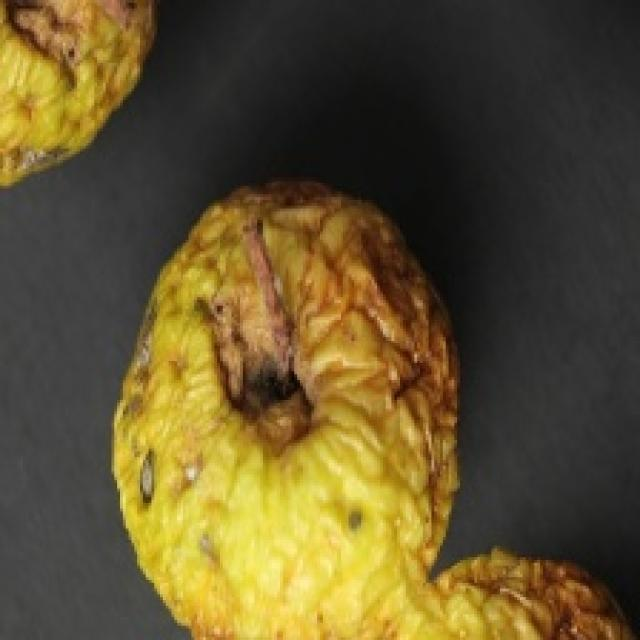rotten_apple: (136, 183, 448, 640)
